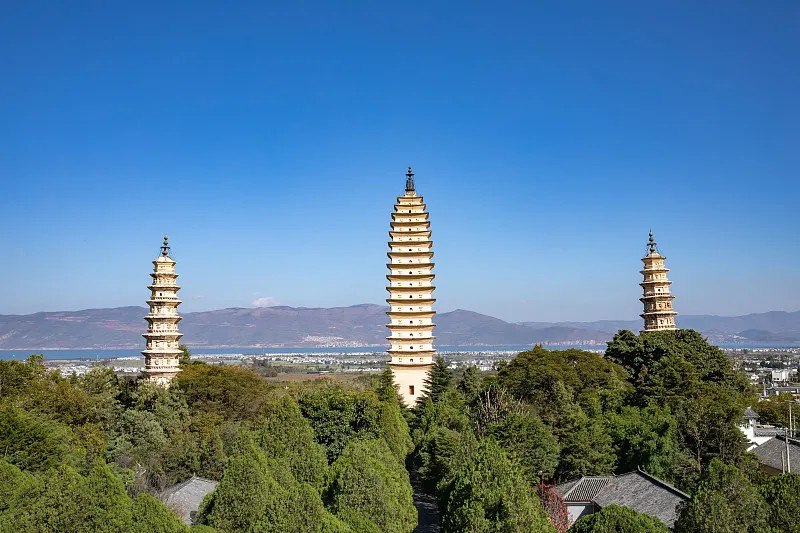ThreePagoda: (385, 165, 437, 407)
